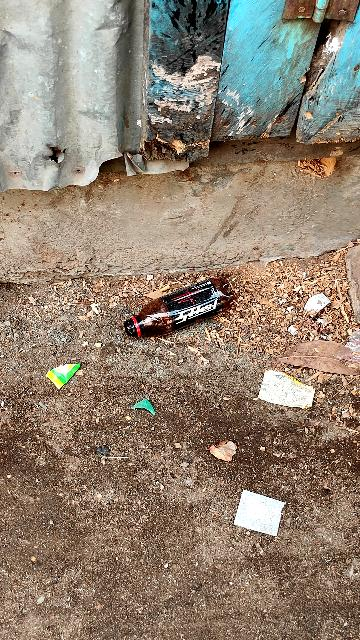bottle: (102, 277, 274, 346)
